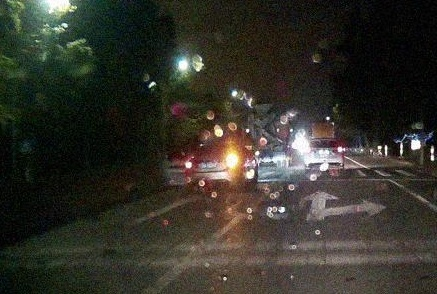L_light: (185, 160, 203, 168), (305, 150, 317, 154)
R_light: (217, 157, 235, 165), (332, 148, 343, 153)
T_light: (213, 141, 224, 144), (322, 139, 329, 141)
night-no: (305, 137, 344, 178)
night-right: (184, 141, 244, 194)
